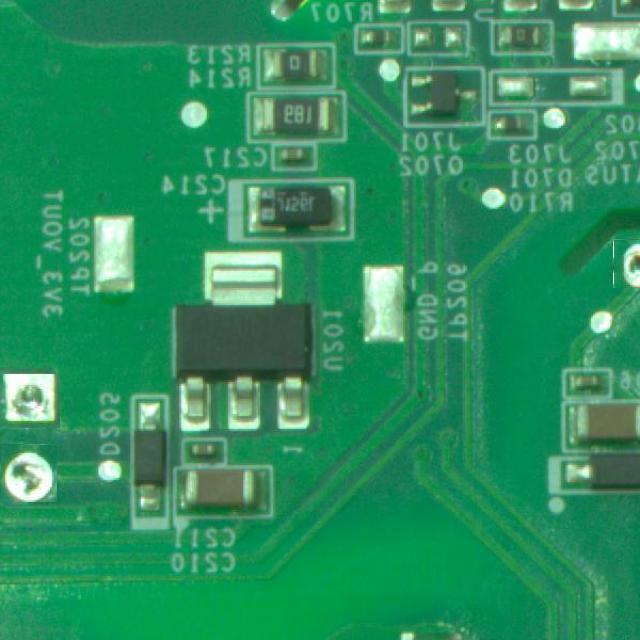lack_of_part: (0, 371, 57, 431), (0, 444, 57, 502), (613, 239, 640, 288)
